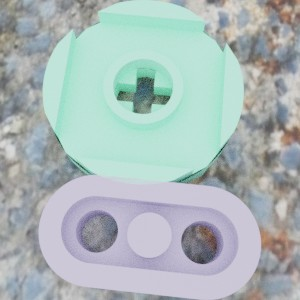lego: (42, 0, 243, 192), (38, 174, 261, 300)
